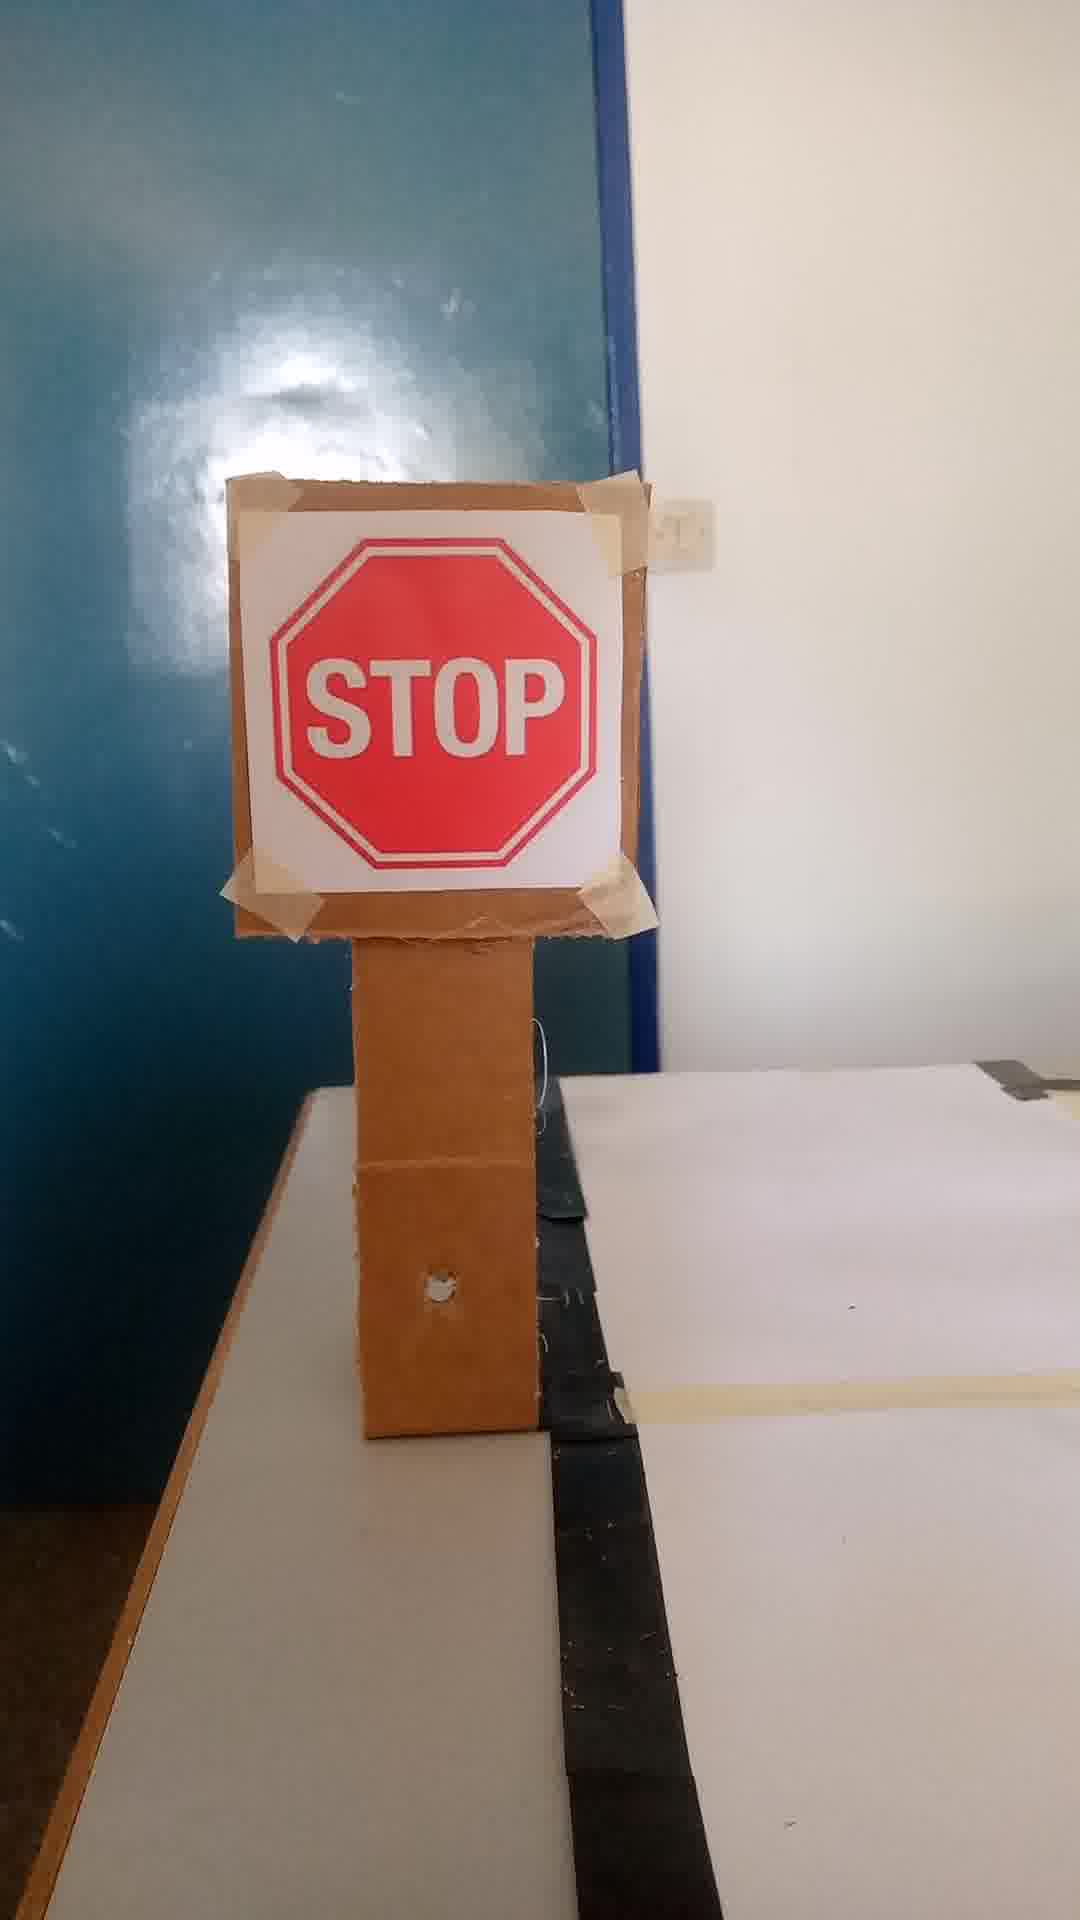panel101: (222, 489, 641, 909)
